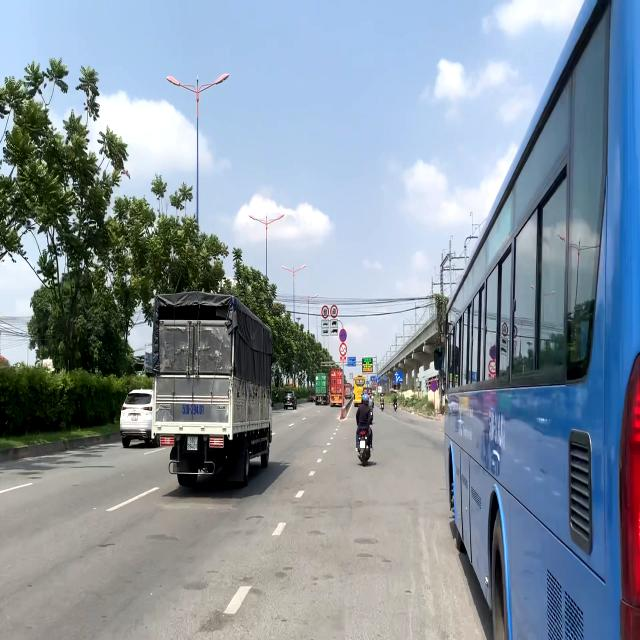P.127: (321, 305, 329, 319), (330, 305, 338, 318)
P.130: (339, 328, 347, 342), (431, 380, 437, 393)
